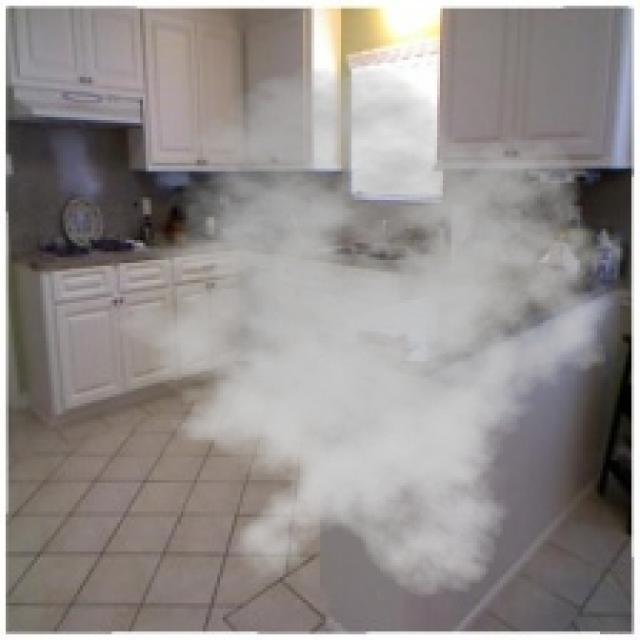Smoke: (88, 66, 638, 603)
